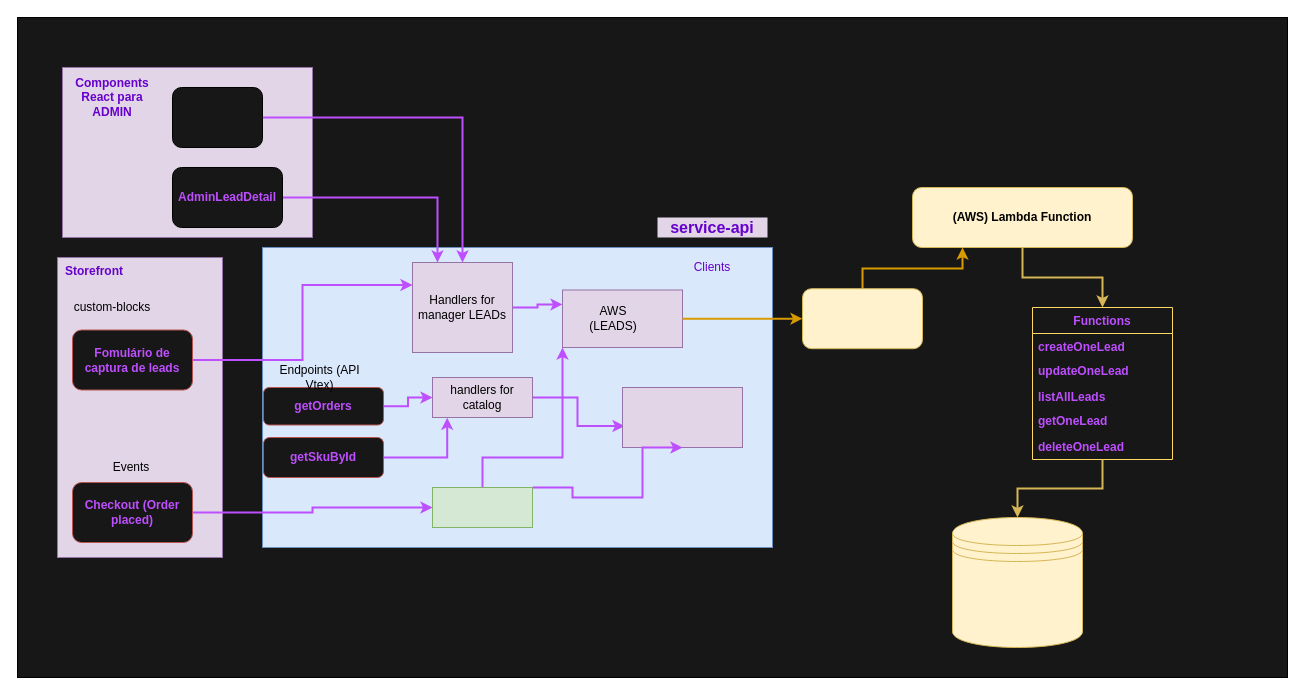
The diagram is 1305 pixels wide and 695 high, and some of its shapes have lost their labels. The centre of each missing label's shape, as x and y in pixels:
AdminLeads: the point at 217,117
AWS (API GATEWAY) for leads: the point at 862,318
Dynamodb: the point at 1017,582
Events (watching) - order.created: the point at 482,507
VTEX @vtex/clients: the point at 682,417
